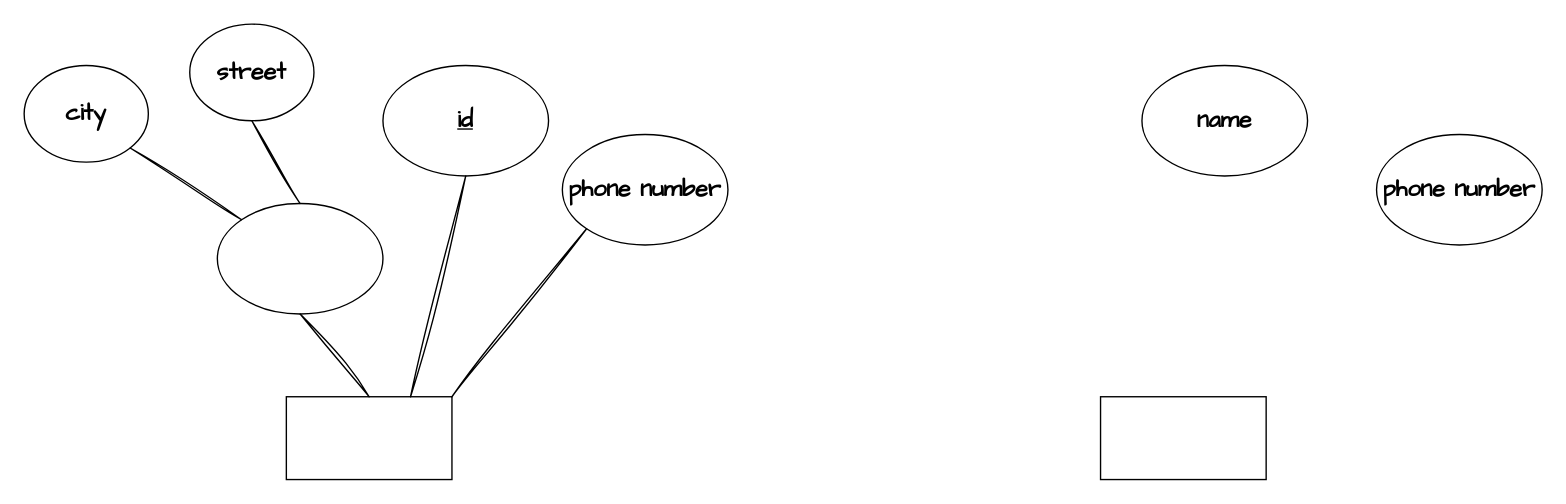
This 1566x504 diagram has some shape labels left out. The centre of each missing label's shape, as x and y in pixels:
"address" belongs at point (299, 258).
"Instrument" belongs at point (1182, 437).
"Musician" belongs at point (368, 437).
